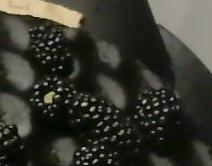berry: (130, 88, 182, 153), (67, 93, 119, 138), (30, 24, 72, 75), (30, 76, 75, 122), (104, 117, 143, 159), (70, 141, 120, 165), (0, 122, 24, 164)
